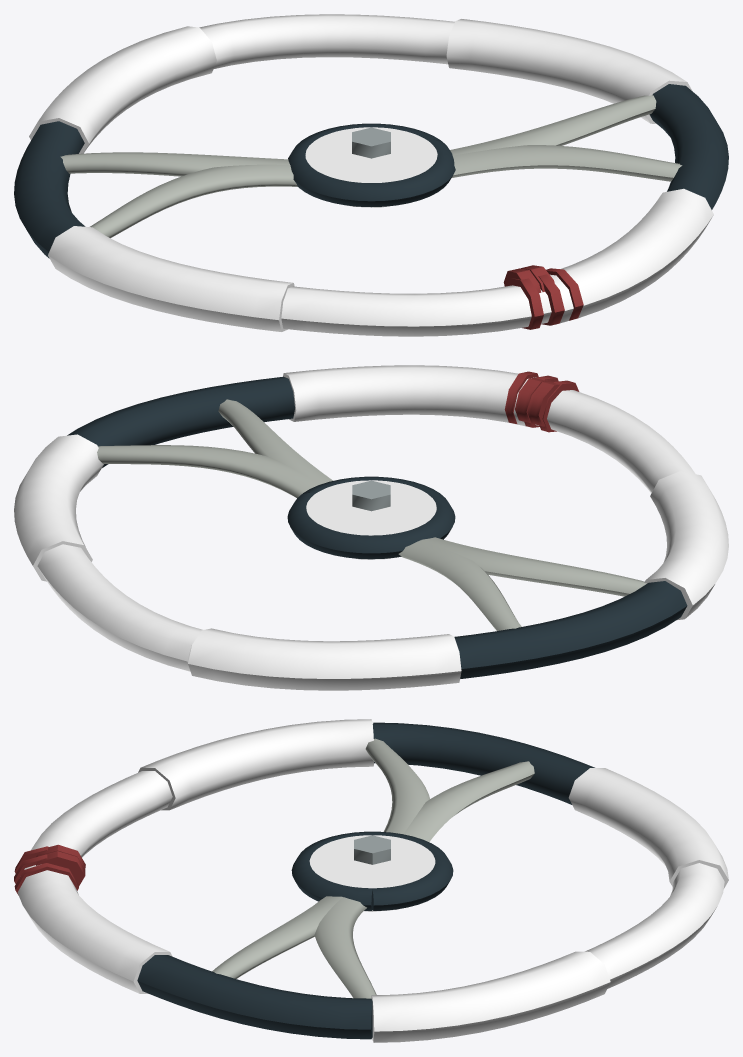
File: Wheel_23_SR_白帆・墨返し.glb
3 renders of one model, top to bottom at view 1: azimuth 30°, elevation 25°; view 2: azimuth 150°, elevation 25°; view 3: azimuth 270°, elevation 25°, orthographic. The views are drawn at different scales.
Parts seen in each view (by area): view 1: Wheel_23_SR; view 2: Wheel_23_SR; view 3: Wheel_23_SR.
Part boxes in pixels (left/top/right/bottom): Wheel_23_SR: left=14, top=14, right=728, bottom=336; Wheel_23_SR: left=14, top=365, right=728, bottom=690; Wheel_23_SR: left=14, top=719, right=728, bottom=1042.
Size of the model in its own units: 0.3349 by 0.0299 by 0.3359.
4 materials, 4 textured.
